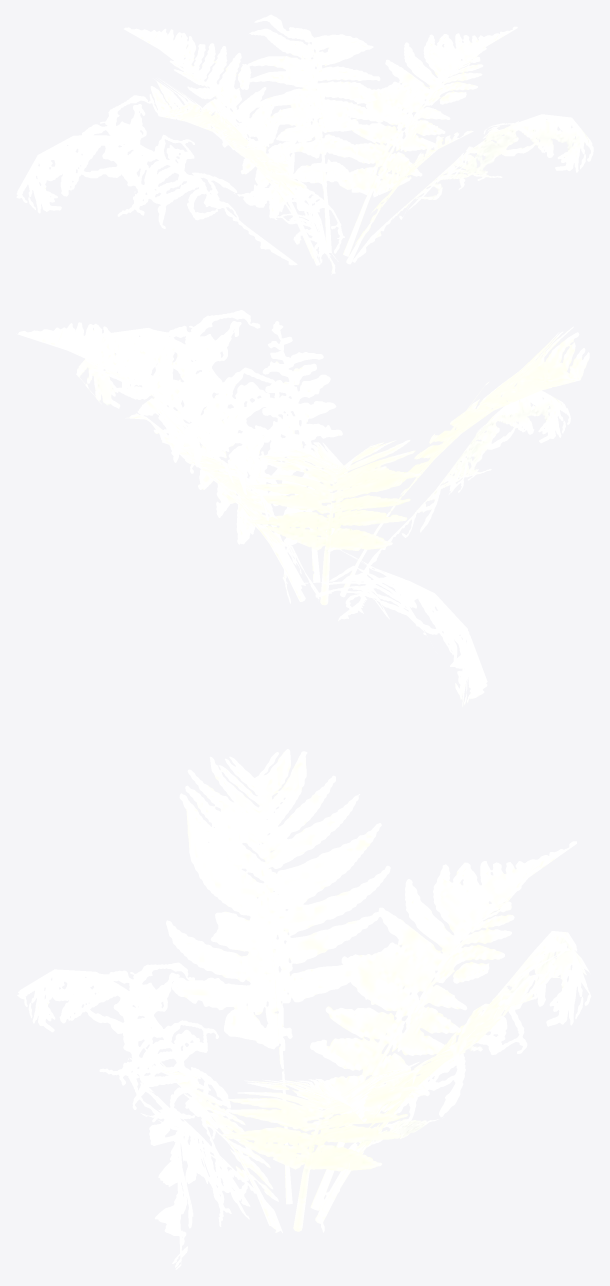
3 views of the same model, one above another, from view 1: azimuth 30°, elevation 25°; view 2: azimuth 150°, elevation 25°; view 3: azimuth 270°, elevation 25° (orthographic). The views are drawn at different scales.
Parts seen in each view (by area): view 1: SM_BM_SwampFern_02_LOD0; view 2: SM_BM_SwampFern_02_LOD0; view 3: SM_BM_SwampFern_02_LOD0.
Boxes of the visible parts, x1,y1,x2,y2 form: SM_BM_SwampFern_02_LOD0: [16, 14, 593, 274]; SM_BM_SwampFern_02_LOD0: [16, 310, 589, 706]; SM_BM_SwampFern_02_LOD0: [17, 749, 591, 1269].
Size of the model in its own units: 0.4372 by 0.218 by 0.3237.
1 material, 1 textured.
